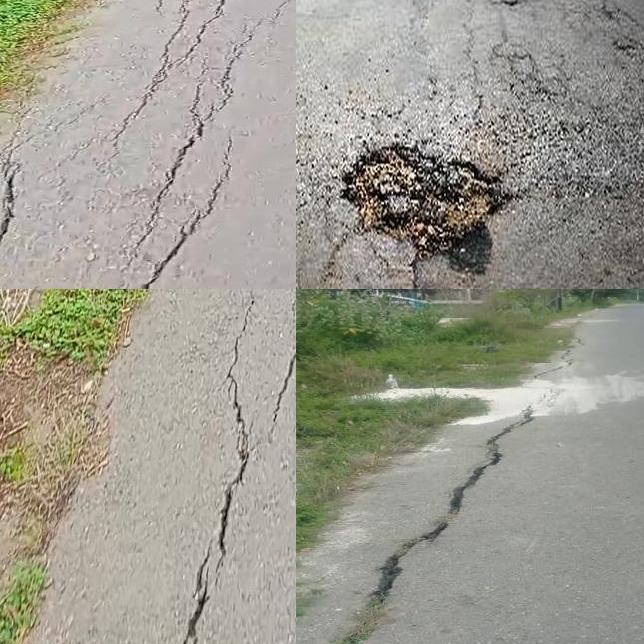Lubang: (352, 149, 515, 272)
Memanjang: (317, 405, 550, 644), (131, 2, 293, 246), (165, 289, 267, 644), (110, 134, 244, 289), (261, 289, 296, 441), (0, 160, 33, 271)
